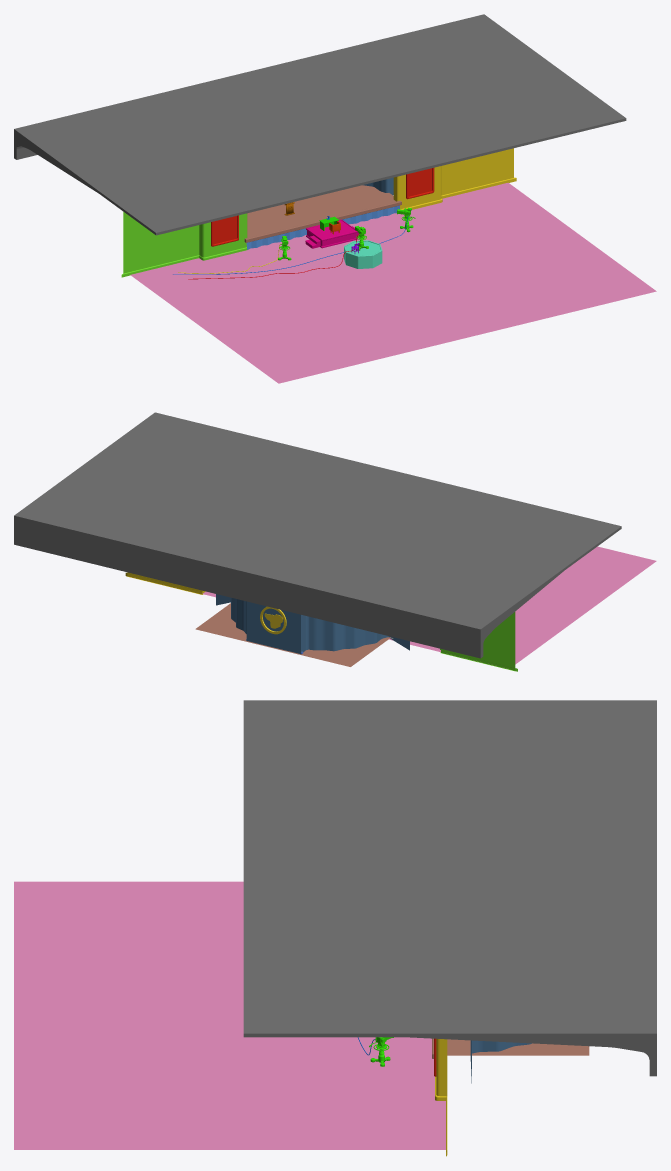
3 renders of one model, top to bottom at view 1: azimuth 30°, elevation 25°; view 2: azimuth 150°, elevation 25°; view 3: azimuth 270°, elevation 25°, orthographic. The views are drawn at different scales.
Parts seen in each view (by area): view 1: Roof, Floor, Wall_left, Stage, Wall_Right, SmalStage, Cylinder.001, StageCurtain, Billboard_Left, Billboard_Right; view 2: Roof, Floor, Backdrop, Stage, Wall_left, Circle, Wall_Right; view 3: Roof, Floor, Stage, Wall_Right.
Boxes of the visible parts, x1,y1,x2,y2 form: Roof: [14, 14, 626, 235]; Floor: [130, 182, 656, 383]; Wall_left: [121, 212, 247, 277]; Stage: [244, 185, 401, 242]; Wall_Right: [393, 148, 516, 209]; SmalStage: [305, 219, 359, 248]; Cylinder.001: [344, 240, 382, 268]; StageCurtain: [246, 205, 399, 249]; Billboard_Left: [406, 168, 434, 199]; Billboard_Right: [211, 215, 238, 246]; Roof: [14, 412, 621, 658]; Floor: [203, 546, 656, 664]; Backdrop: [216, 594, 409, 653]; Stage: [195, 603, 390, 666]; Wall_left: [440, 612, 517, 671]; Circle: [260, 606, 286, 634]; Wall_Right: [125, 572, 205, 594]; Roof: [243, 700, 656, 1076]; Floor: [14, 881, 445, 1149]; Stage: [432, 1038, 589, 1058]; Wall_Right: [435, 1038, 447, 1156].
Size of the model in its own units: 7964 by 1684 by 6488.
